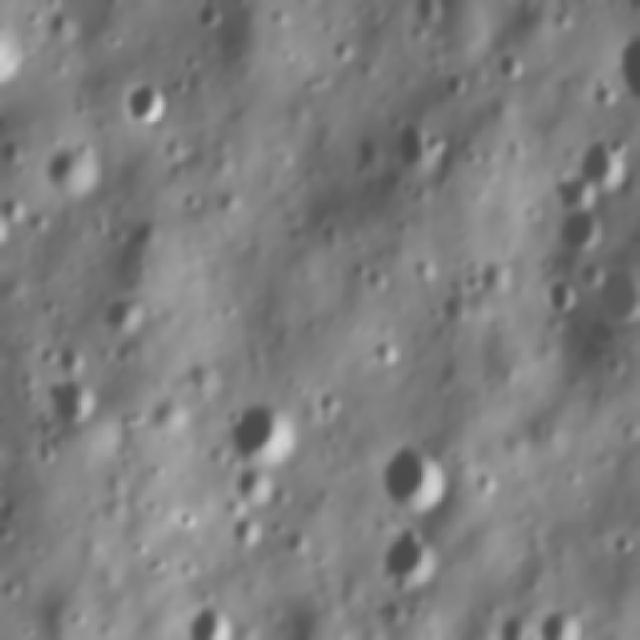crater: (374, 449, 446, 514), (590, 258, 638, 332), (232, 400, 290, 458), (391, 118, 435, 180), (386, 529, 436, 582), (580, 133, 631, 181), (540, 212, 606, 248), (50, 153, 101, 198), (134, 78, 171, 130), (539, 604, 586, 638), (545, 179, 604, 206), (354, 260, 388, 306), (542, 274, 578, 317), (103, 299, 143, 336), (231, 472, 274, 506), (368, 336, 410, 370), (234, 515, 272, 550), (608, 530, 637, 568), (194, 0, 232, 29), (177, 504, 205, 536), (41, 8, 68, 41), (438, 72, 469, 97), (502, 56, 523, 78)
